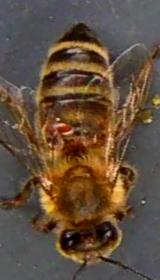varroa_mite: (33, 116, 76, 135)
